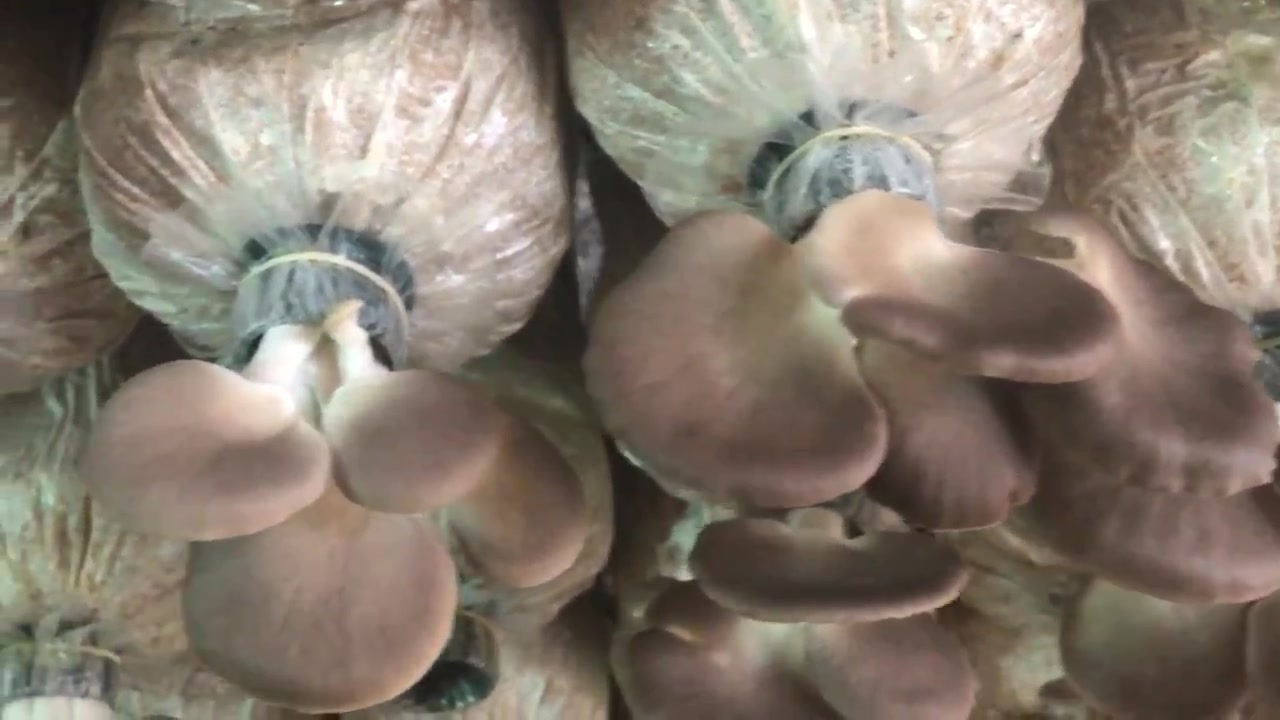nam: (581, 126, 1278, 622), (88, 256, 588, 713), (628, 580, 975, 720), (1059, 571, 1279, 720)
